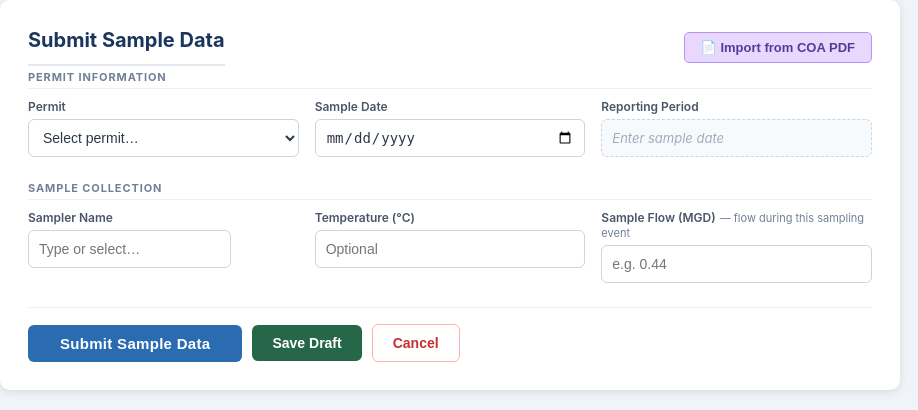
Test: SampleForm — rendering › clicking 'Import from COA PDF' shows the COAImport panel
This screenshot has width=918, height=410.
Step 1. Click the button "📄 Import from COA PDF" → (778, 47), box [684,32,872,62]
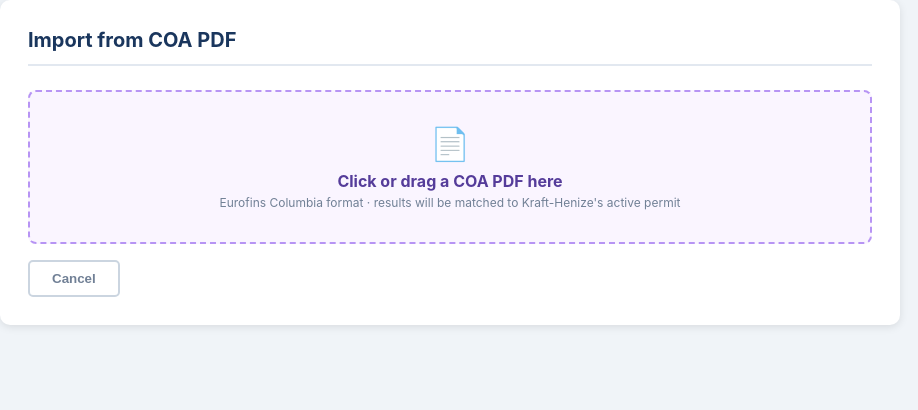
Check: the heading "Import from COA PDF" is shown, box [28,28,872,66]
Check: the text "Click or drag a COA PDF here" is shown, box [337,171,563,191]
